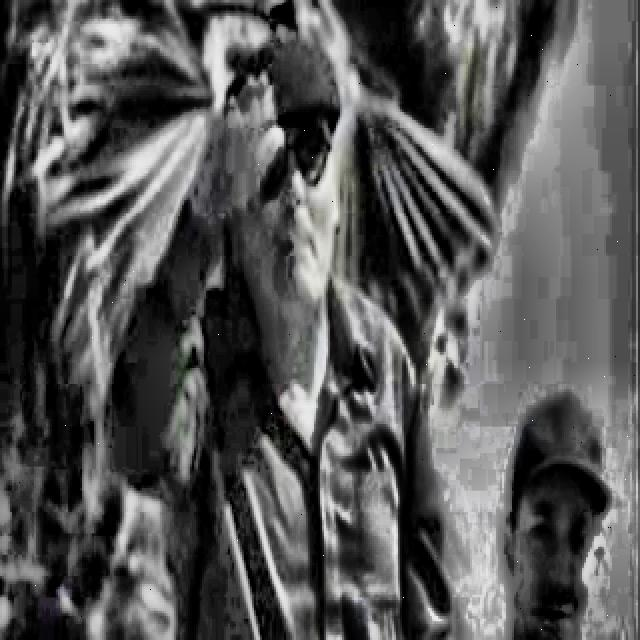T: (110, 27, 466, 638)
